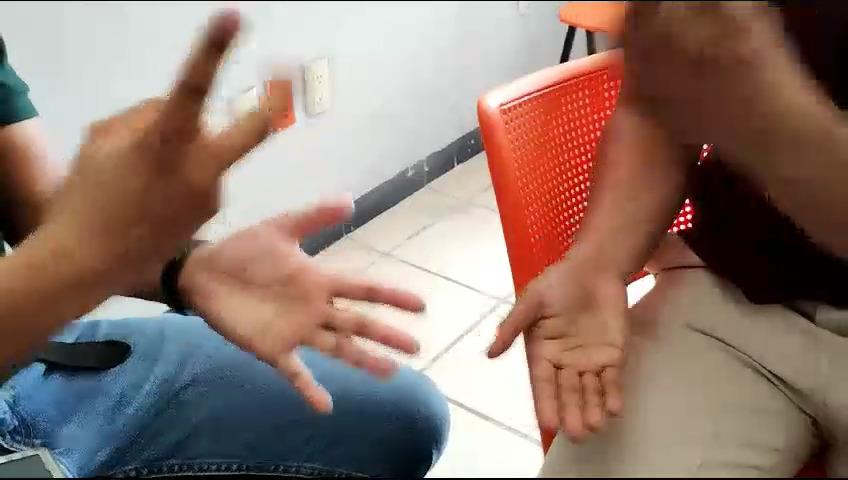Paper: (236, 205, 441, 431), (476, 241, 653, 449)
Scissor: (42, 32, 299, 288)
